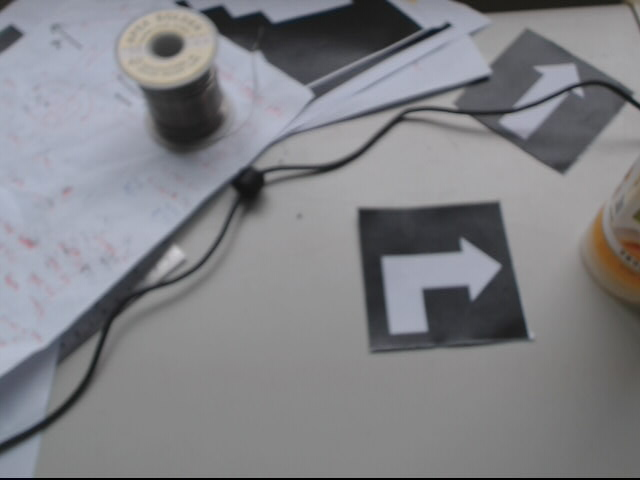right: (358, 201, 529, 351)
